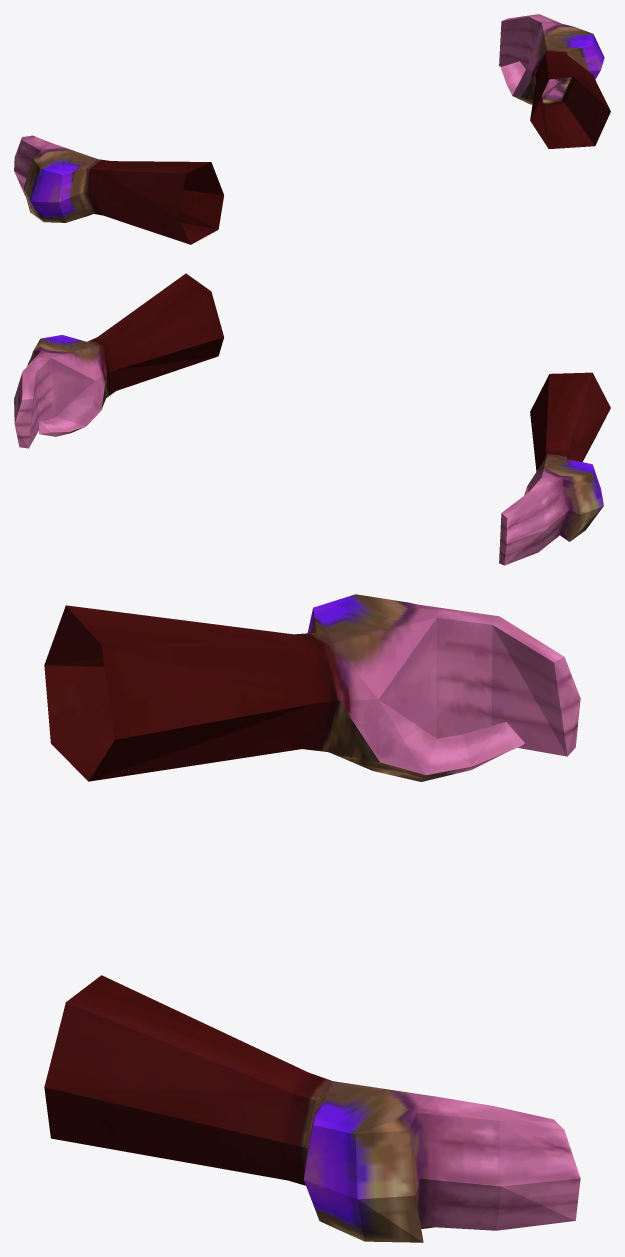
The model's file is summoner_glove_male_92710.obj.
3 views of the same model, one above another, from view 1: azimuth 30°, elevation 25°; view 2: azimuth 150°, elevation 25°; view 3: azimuth 270°, elevation 25° (orthographic). The views are drawn at different scales.
Visible parts, largest first — view 1: summoner_glove_male_92710; view 2: summoner_glove_male_92710; view 3: summoner_glove_male_92710.
Boxes of the visible parts, <box> form: summoner_glove_male_92710: <box>14,14,610,244</box>; summoner_glove_male_92710: <box>14,273,610,565</box>; summoner_glove_male_92710: <box>44,594,580,1242</box>.
Size of the model in its own units: 47.33 by 7.94 by 19.12.
1 material, 1 textured.
